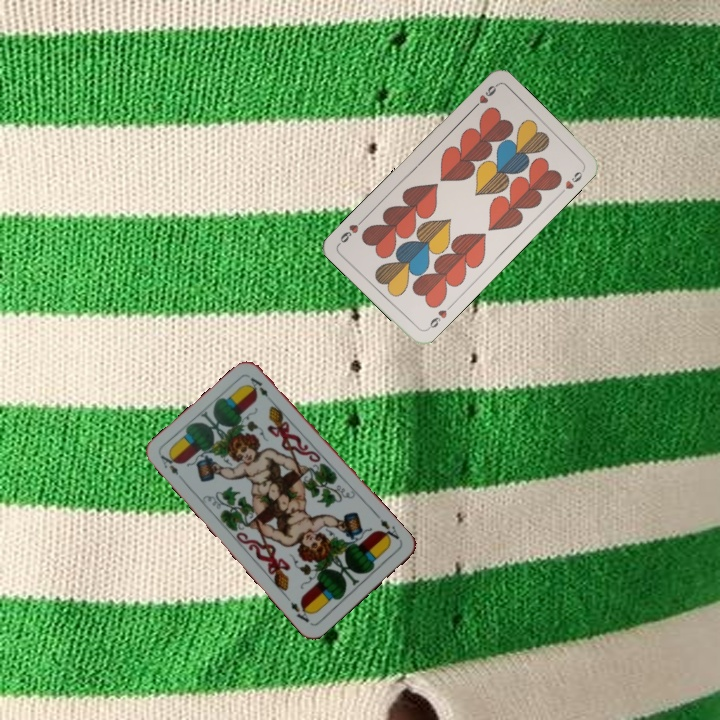EA: (376, 515, 402, 545), (156, 449, 182, 478)
H9: (422, 301, 454, 333), (468, 81, 500, 113)
